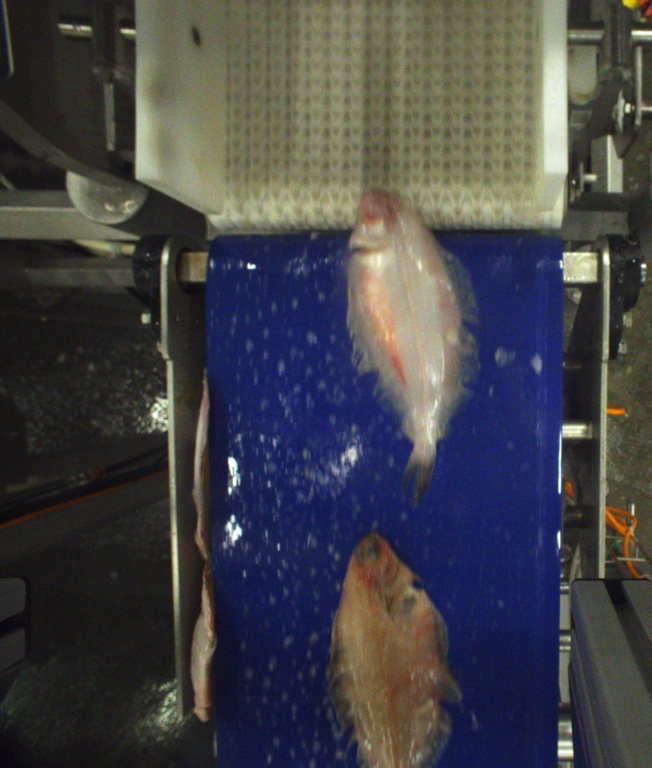WIT: (350, 192, 479, 508)
